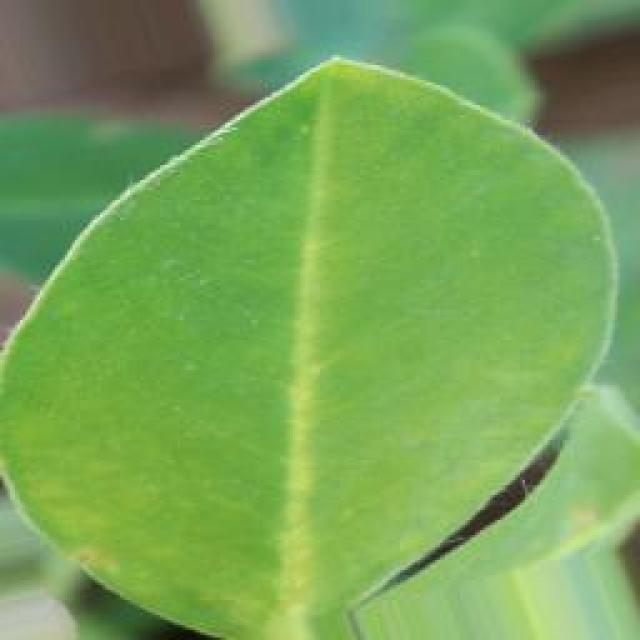Yellow_and_black_sigatoka: (0, 52, 612, 632)
